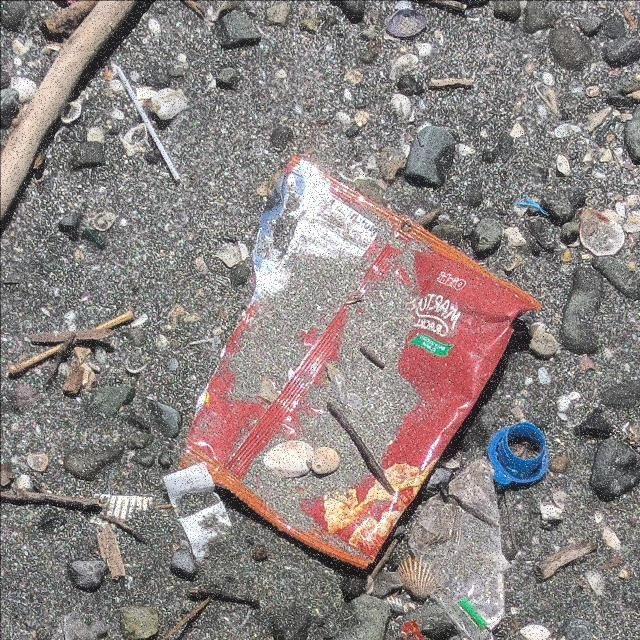plastic_waste: (174, 153, 546, 572), (115, 66, 183, 184)
